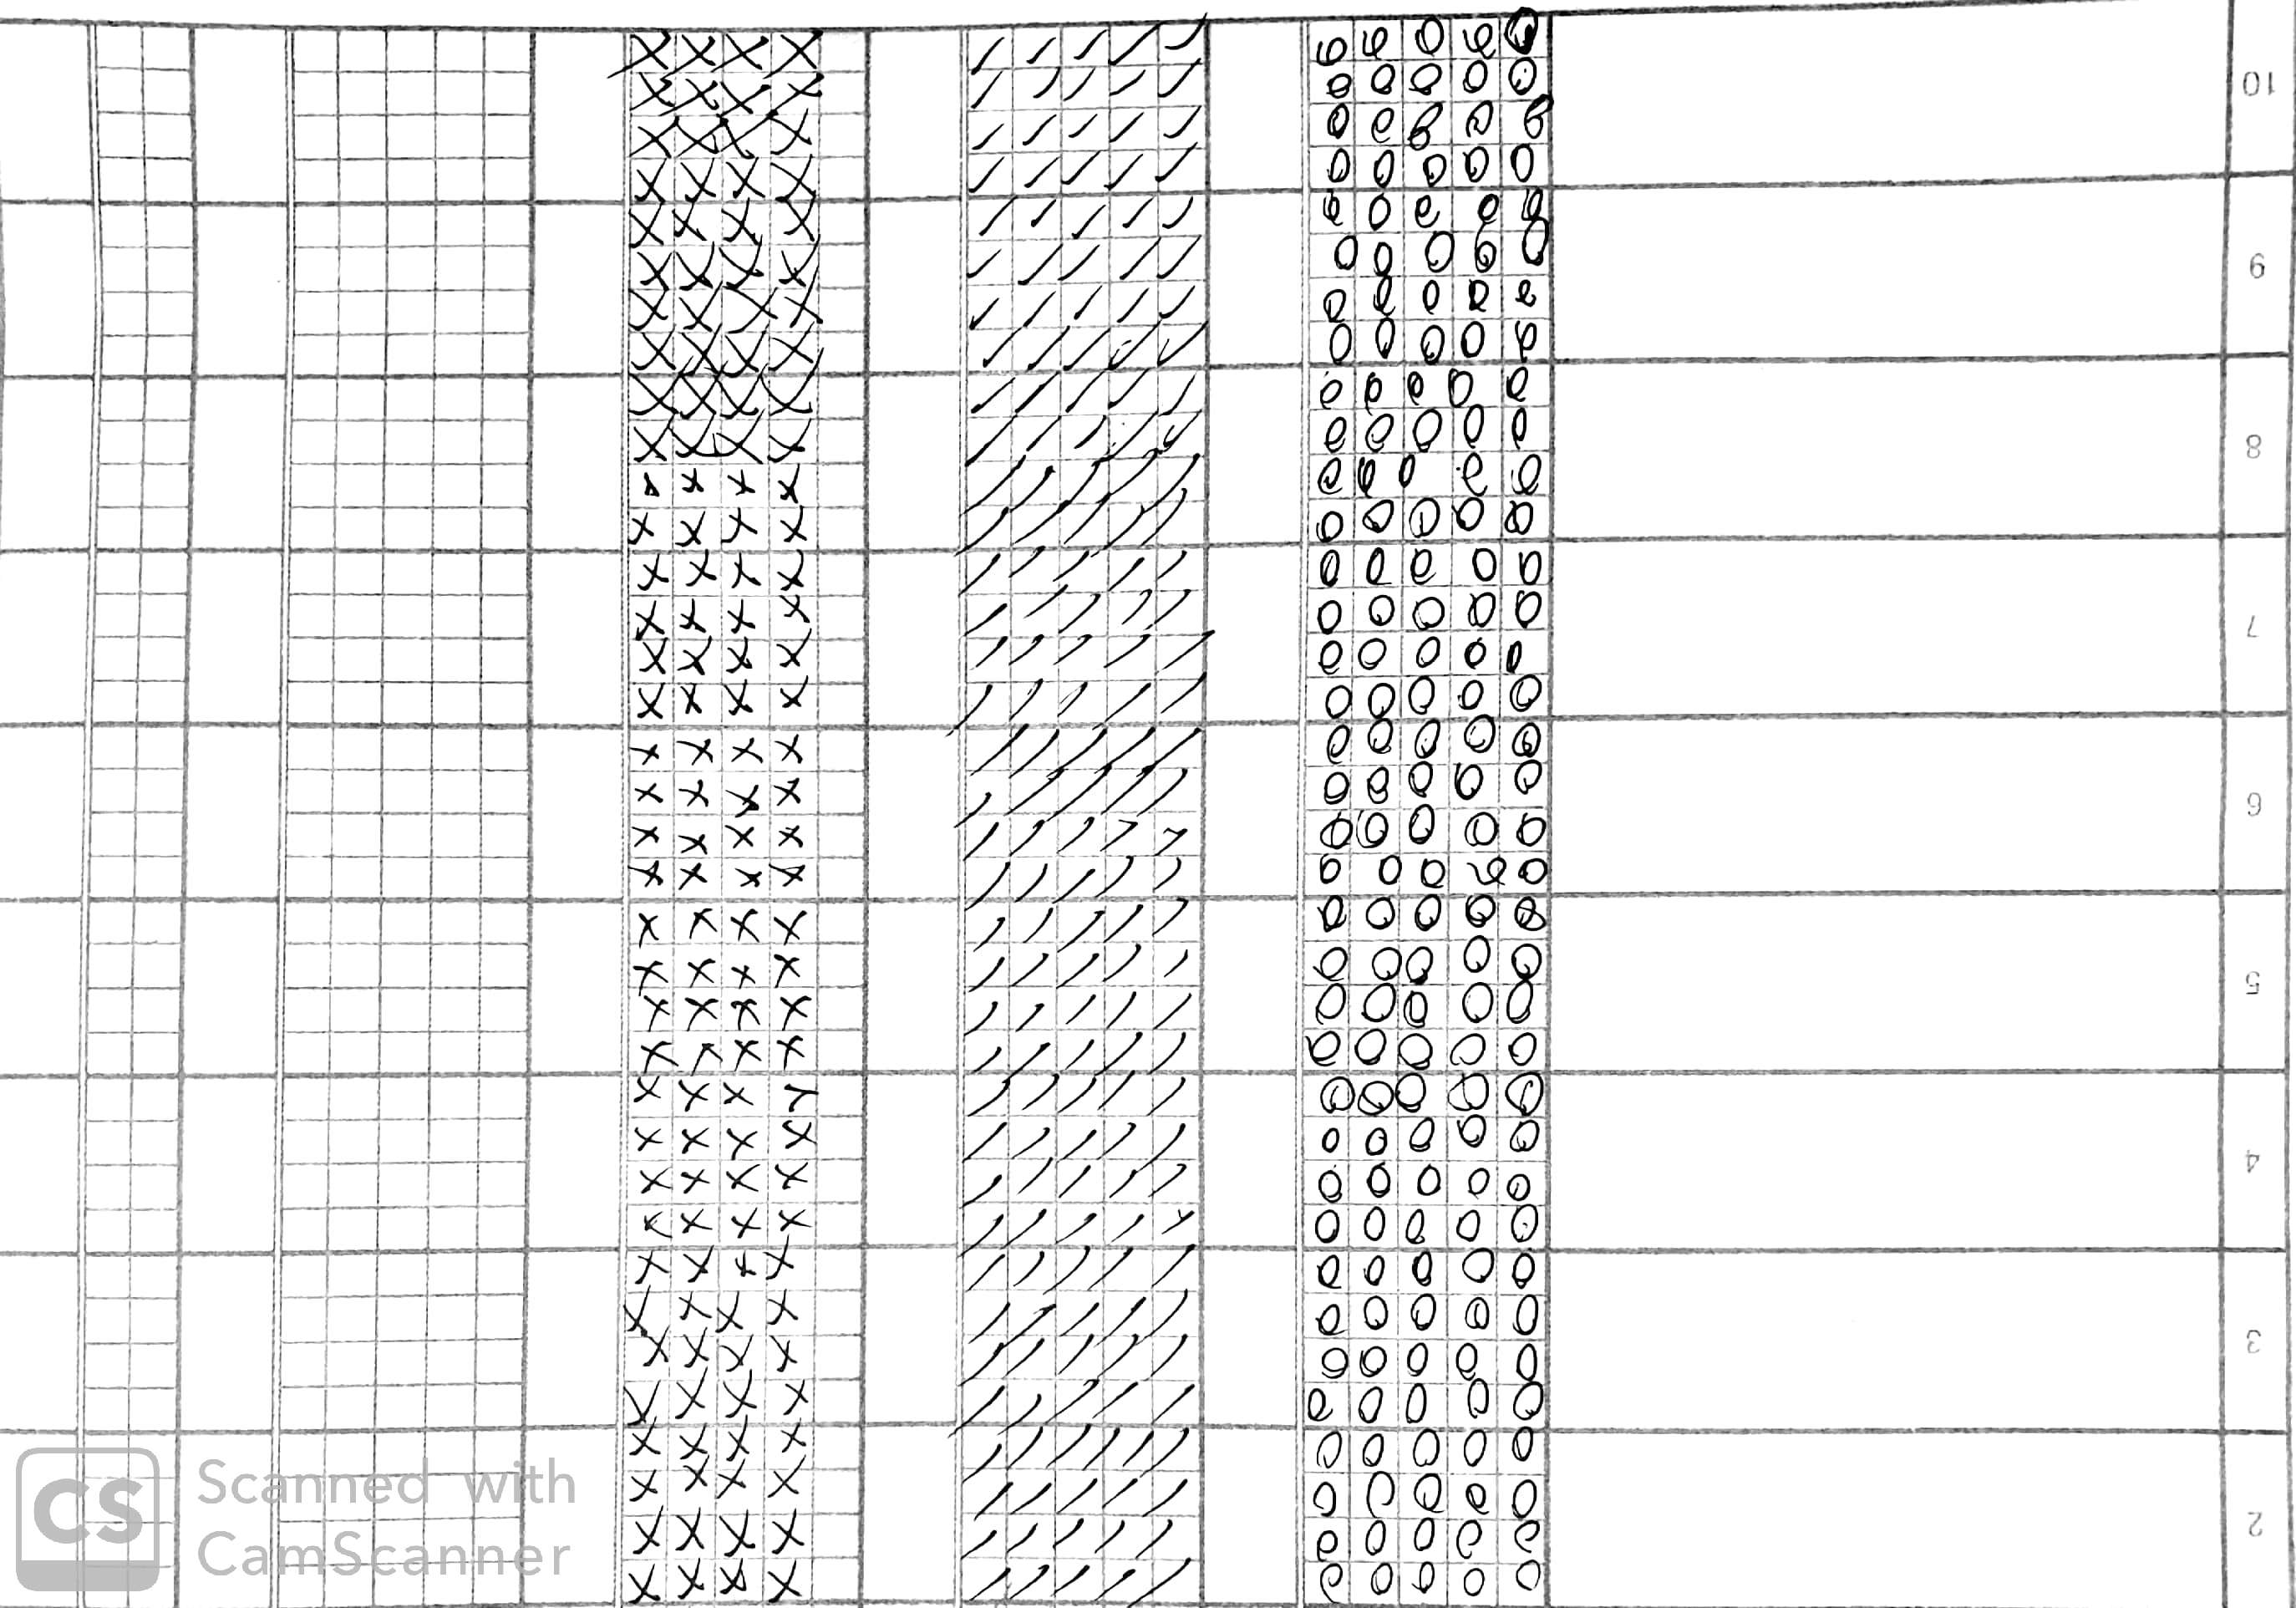/: (953, 105, 1008, 155), (1092, 320, 1148, 370), (954, 419, 1010, 470), (1008, 21, 1063, 72), (1057, 19, 1111, 70), (1157, 21, 1211, 72), (1000, 103, 1054, 154), (1145, 98, 1199, 148), (1104, 141, 1158, 192), (1057, 141, 1111, 192), (1008, 196, 1063, 246), (1045, 236, 1099, 286), (1153, 320, 1207, 370), (1005, 419, 1059, 470), (1000, 457, 1054, 508), (1151, 56, 1207, 105), (954, 63, 1010, 112), (1108, 98, 1164, 147), (1151, 234, 1207, 283), (954, 246, 1010, 295), (953, 292, 1008, 340), (991, 330, 1047, 379), (1151, 370, 1207, 419), (954, 471, 1010, 520), (1090, 456, 1146, 505), (1151, 454, 1207, 503), (1052, 503, 1108, 552), (958, 24, 1012, 73), (1099, 17, 1153, 66), (1103, 56, 1157, 105), (1054, 63, 1108, 112), (1015, 59, 1069, 108), (1050, 98, 1104, 147), (1145, 147, 1199, 196), (1005, 147, 1059, 196), (965, 147, 1019, 196), (958, 189, 1012, 237), (1057, 194, 1111, 243), (1111, 189, 1165, 237), (1153, 187, 1207, 236), (1103, 239, 1157, 288), (1012, 246, 1066, 295), (1008, 286, 1063, 335), (1043, 285, 1097, 333), (1104, 278, 1158, 326), (1157, 278, 1211, 326), (1038, 326, 1092, 375), (958, 333, 1012, 382), (958, 377, 1012, 426), (1005, 372, 1059, 421), (1050, 370, 1104, 419), (1099, 365, 1153, 414), (1148, 409, 1202, 457), (1106, 417, 1160, 466), (1054, 417, 1108, 466), (1054, 456, 1108, 505), (1148, 503, 1202, 552), (1097, 501, 1151, 550), (1008, 506, 1063, 555), (949, 503, 1003, 552), (1099, 629, 1143, 677), (1054, 674, 1097, 723), (1003, 814, 1047, 862), (1103, 812, 1146, 861), (1097, 986, 1141, 1035), (1012, 1201, 1056, 1250), (1010, 1294, 1054, 1343), (1092, 1378, 1136, 1426), (1049, 1381, 1092, 1430), (1005, 1383, 1049, 1432), (1111, 1470, 1155, 1519), (1017, 1472, 1061, 1521), (1101, 1557, 1145, 1606), (1015, 1557, 1059, 1606), (1014, 546, 1057, 594), (1054, 539, 1097, 587), (1113, 587, 1157, 634), (960, 587, 1003, 634), (953, 632, 996, 679), (961, 725, 1005, 772), (1158, 723, 1202, 770), (1103, 766, 1146, 814), (1010, 763, 1054, 810), (1099, 852, 1143, 899), (1014, 854, 1057, 901), (1010, 896, 1054, 943), (1099, 896, 1143, 943), (1012, 941, 1056, 988), (1012, 993, 1056, 1041), (1012, 1039, 1056, 1086), (1012, 1079, 1056, 1126), (1104, 1072, 1148, 1119), (1101, 1117, 1145, 1165), (1012, 1156, 1056, 1203), (1110, 1158, 1153, 1205), (1012, 1248, 1056, 1295), (1096, 1245, 1139, 1292), (998, 1336, 1042, 1383), (1108, 1341, 1151, 1388), (1012, 1428, 1056, 1475), (1118, 1421, 1162, 1468), (1085, 1428, 1129, 1475), (1010, 1514, 1054, 1561), (1049, 1517, 1092, 1564), (1008, 629, 1050, 677), (1050, 629, 1092, 677), (1167, 634, 1209, 683), (1165, 672, 1207, 721), (1061, 812, 1103, 861), (1148, 812, 1190, 861), (1063, 903, 1104, 952), (965, 988, 1007, 1037), (1057, 986, 1099, 1035), (1143, 983, 1185, 1032), (1090, 1020, 1132, 1069), (1153, 1117, 1195, 1166), (1061, 1119, 1103, 1168), (967, 1165, 1008, 1213), (1160, 1199, 1202, 1248), (1108, 1199, 1150, 1248), (1056, 1196, 1097, 1245), (963, 1203, 1005, 1252), (1108, 1297, 1150, 1346), (1056, 1297, 1097, 1346), (970, 1295, 1012, 1344), (1153, 1383, 1195, 1432), (954, 1378, 996, 1426), (1066, 1474, 1108, 1522), (1057, 1554, 1099, 1603), (979, 1557, 1021, 1606), (965, 541, 1007, 588), (1111, 546, 1153, 594), (1150, 545, 1192, 592), (1157, 587, 1199, 634), (1064, 587, 1106, 634), (1012, 585, 1054, 632), (1106, 677, 1148, 725), (1008, 677, 1050, 725), (958, 683, 1000, 730), (1019, 721, 1061, 768), (1066, 718, 1108, 765), (1106, 721, 1148, 768), (1150, 761, 1192, 808), (1052, 761, 1094, 808), (956, 768, 998, 815), (967, 821, 1008, 868), (1153, 856, 1195, 903), (1066, 859, 1108, 906), (975, 861, 1017, 908), (979, 901, 1021, 948), (1151, 897, 1193, 945), (1150, 946, 1192, 993), (1090, 932, 1132, 979), (1056, 939, 1097, 986), (965, 943, 1007, 990), (1153, 1014, 1195, 1062), (968, 1035, 1010, 1082), (963, 1074, 1005, 1121), (1061, 1077, 1103, 1124), (1146, 1072, 1188, 1119), (1007, 1117, 1049, 1165), (960, 1117, 1001, 1165), (1063, 1159, 1104, 1206), (1153, 1158, 1195, 1205), (968, 1250, 1010, 1297), (1054, 1241, 1096, 1288), (1151, 1240, 1193, 1287), (1151, 1290, 1193, 1337), (967, 1343, 1008, 1390), (1057, 1336, 1099, 1383), (1155, 1339, 1197, 1386), (968, 1430, 1010, 1477), (1056, 1425, 1097, 1472), (1155, 1426, 1197, 1474), (1155, 1467, 1197, 1514), (967, 1468, 1008, 1515), (965, 1521, 1007, 1568), (1089, 1514, 1131, 1561), (1138, 1515, 1179, 1563), (1148, 1552, 1190, 1599), (970, 1561, 1012, 1608)
o: (1492, 1117, 1539, 1158), (1403, 450, 1448, 491), (1448, 1117, 1493, 1158), (1359, 1294, 1404, 1334), (1357, 21, 1404, 59), (1506, 59, 1553, 98), (1404, 59, 1452, 98), (1312, 103, 1359, 141), (1404, 105, 1452, 143), (1507, 101, 1555, 140), (1506, 138, 1553, 176), (1457, 143, 1504, 182), (1408, 152, 1455, 190), (1357, 145, 1404, 183), (1314, 150, 1361, 189), (1410, 236, 1457, 274), (1309, 288, 1356, 326), (1408, 276, 1455, 314), (1457, 285, 1504, 323), (1504, 279, 1551, 318), (1504, 316, 1551, 354), (1314, 370, 1361, 409), (1488, 363, 1535, 402), (1312, 419, 1359, 457), (1312, 456, 1359, 494), (1455, 454, 1502, 492), (1309, 510, 1356, 548), (1310, 548, 1357, 587), (1357, 543, 1404, 581), (1506, 546, 1553, 585), (1406, 595, 1453, 634), (1404, 641, 1452, 679), (1455, 629, 1502, 667), (1486, 629, 1534, 667), (1504, 665, 1551, 704), (1309, 683, 1356, 721), (1397, 719, 1445, 758), (1455, 716, 1502, 754), (1404, 810, 1452, 849), (1457, 812, 1504, 850), (1507, 810, 1555, 849), (1504, 854, 1551, 892), (1455, 854, 1502, 892), (1410, 856, 1457, 894), (1307, 859, 1354, 897), (1504, 896, 1551, 934), (1504, 936, 1551, 974), (1504, 985, 1551, 1023), (1391, 1034, 1438, 1072), (1307, 1081, 1354, 1119), (1394, 1075, 1441, 1114), (1495, 1072, 1542, 1110), (1391, 1119, 1438, 1158), (1293, 1119, 1340, 1158), (1406, 1163, 1453, 1201), (1495, 1166, 1542, 1205), (1495, 1208, 1542, 1247), (1394, 1206, 1441, 1245), (1457, 1295, 1504, 1334), (1397, 1294, 1445, 1332), (1312, 1297, 1359, 1336), (1396, 1343, 1443, 1381), (1504, 1339, 1551, 1378), (1391, 1379, 1438, 1418), (1295, 1395, 1342, 1433), (1298, 1432, 1345, 1470), (1408, 1435, 1455, 1474), (1455, 1477, 1502, 1515), (1406, 1514, 1453, 1552), (1507, 1557, 1555, 1596), (1397, 1556, 1445, 1594), (1357, 1561, 1404, 1599), (1289, 1563, 1336, 1601), (1309, 26, 1354, 65), (1403, 21, 1448, 59), (1452, 17, 1497, 56), (1502, 12, 1548, 51), (1453, 58, 1499, 96), (1364, 59, 1410, 98), (1319, 68, 1364, 107), (1359, 103, 1404, 141), (1460, 107, 1506, 145), (1319, 197, 1364, 236), (1354, 192, 1399, 230), (1401, 196, 1446, 234), (1460, 189, 1506, 227), (1504, 187, 1549, 225), (1511, 236, 1556, 274), (1464, 236, 1509, 274), (1364, 236, 1410, 274), (1317, 241, 1363, 279), (1361, 286, 1406, 325), (1448, 314, 1493, 353), (1417, 320, 1462, 358), (1364, 321, 1410, 360), (1319, 325, 1364, 363), (1347, 368, 1392, 407), (1401, 361, 1446, 400), (1439, 365, 1485, 403), (1500, 410, 1546, 449), (1460, 407, 1506, 445), (1404, 410, 1450, 449), (1350, 410, 1396, 449), (1350, 466, 1396, 505), (1504, 450, 1549, 489), (1499, 496, 1544, 534), (1438, 491, 1483, 529), (1404, 498, 1450, 536), (1359, 499, 1404, 538), (1401, 555, 1446, 594), (1462, 546, 1507, 585), (1511, 587, 1556, 625), (1464, 588, 1509, 627), (1361, 592, 1406, 630), (1300, 595, 1345, 634), (1305, 637, 1350, 676), (1350, 630, 1396, 669), (1445, 670, 1490, 709), (1404, 677, 1450, 716), (1356, 679, 1401, 718), (1307, 725, 1352, 763), (1363, 723, 1408, 761), (1499, 721, 1544, 759), (1499, 759, 1544, 798), (1432, 761, 1478, 800), (1404, 765, 1450, 803), (1363, 765, 1408, 803), (1322, 766, 1368, 805), (1307, 822, 1352, 861), (1350, 808, 1396, 847), (1363, 852, 1408, 890), (1303, 903, 1349, 941), (1363, 896, 1408, 934), (1404, 892, 1450, 931), (1450, 894, 1495, 932), (1443, 936, 1488, 974), (1384, 945, 1429, 983), (1354, 946, 1399, 985), (1305, 950, 1350, 988), (1303, 978, 1349, 1016), (1366, 986, 1411, 1025), (1401, 986, 1446, 1025), (1452, 986, 1497, 1025), (1500, 1034, 1546, 1072), (1452, 1030, 1497, 1069), (1347, 1028, 1392, 1067), (1319, 1028, 1364, 1067), (1349, 1074, 1394, 1112), (1450, 1074, 1495, 1112), (1352, 1123, 1397, 1161), (1300, 1166, 1345, 1205), (1349, 1163, 1394, 1201), (1448, 1163, 1493, 1201), (1445, 1199, 1490, 1238), (1356, 1206, 1401, 1245), (1300, 1212, 1345, 1250), (1307, 1252, 1352, 1290), (1356, 1254, 1401, 1292), (1401, 1252, 1446, 1290), (1446, 1252, 1492, 1290), (1499, 1252, 1544, 1290), (1502, 1292, 1548, 1330), (1303, 1343, 1349, 1381), (1354, 1344, 1399, 1383), (1462, 1344, 1507, 1383), (1513, 1388, 1558, 1426), (1452, 1383, 1497, 1421), (1349, 1388, 1394, 1426), (1354, 1432, 1399, 1470), (1443, 1433, 1488, 1472), (1500, 1432, 1546, 1470), (1500, 1472, 1546, 1510), (1403, 1474, 1448, 1512), (1359, 1472, 1404, 1510), (1300, 1474, 1345, 1512), (1303, 1528, 1349, 1566), (1347, 1521, 1392, 1559), (1460, 1522, 1506, 1561), (1504, 1519, 1549, 1557), (1439, 1561, 1485, 1599)
x: (623, 26, 666, 70), (680, 30, 724, 73), (722, 30, 766, 73), (775, 31, 818, 75), (780, 66, 823, 110), (677, 72, 721, 115), (722, 119, 766, 162), (768, 113, 811, 157), (775, 155, 818, 199), (735, 157, 778, 201), (691, 162, 735, 206), (644, 157, 687, 201), (628, 210, 672, 253), (661, 203, 705, 246), (766, 201, 810, 244), (771, 243, 815, 286), (715, 243, 759, 286), (682, 250, 726, 293), (639, 248, 682, 292), (635, 288, 679, 332), (729, 288, 773, 332), (775, 288, 818, 332), (721, 325, 764, 368), (673, 332, 717, 375), (635, 381, 679, 424), (682, 379, 726, 423), (761, 374, 804, 417), (761, 417, 804, 461), (707, 417, 750, 461), (666, 423, 710, 466), (630, 423, 673, 466), (757, 454, 801, 498), (766, 501, 810, 545), (722, 503, 766, 546), (628, 553, 672, 597), (668, 587, 712, 630), (619, 599, 663, 643), (628, 637, 672, 681), (675, 637, 719, 681), (707, 639, 750, 683), (759, 639, 803, 683), (764, 674, 808, 718), (675, 679, 719, 723), (626, 677, 670, 721), (666, 726, 710, 770), (721, 732, 764, 775), (776, 740, 820, 784), (771, 779, 815, 822), (729, 777, 773, 821), (666, 770, 710, 814), (630, 770, 673, 814), (619, 808, 663, 852), (666, 817, 710, 861), (715, 815, 759, 859), (764, 817, 808, 861), (766, 854, 810, 897), (666, 856, 710, 899), (616, 850, 659, 894), (677, 904, 721, 948), (722, 904, 766, 948), (766, 904, 810, 948), (764, 939, 808, 983), (719, 941, 762, 985), (677, 957, 721, 1000), (728, 992, 771, 1035), (766, 992, 810, 1035), (771, 1027, 815, 1070), (722, 1025, 766, 1069), (693, 1034, 736, 1077), (628, 1069, 672, 1112), (684, 1069, 728, 1112), (714, 1070, 757, 1114), (782, 1077, 825, 1121), (776, 1114, 820, 1158), (722, 1114, 766, 1158), (682, 1117, 726, 1161), (635, 1119, 679, 1163), (635, 1163, 679, 1206), (673, 1158, 717, 1201), (719, 1163, 762, 1206), (768, 1161, 811, 1205), (726, 1194, 769, 1238), (684, 1201, 728, 1245), (637, 1203, 680, 1247), (628, 1247, 672, 1290), (689, 1247, 733, 1290), (719, 1245, 762, 1288), (754, 1241, 797, 1285), (752, 1294, 796, 1337), (626, 1332, 670, 1376), (675, 1332, 719, 1376), (719, 1334, 762, 1378), (768, 1371, 811, 1414), (714, 1378, 757, 1421), (621, 1378, 665, 1421), (616, 1426, 659, 1470), (714, 1419, 757, 1463), (759, 1418, 803, 1461), (761, 1458, 804, 1501), (707, 1461, 750, 1505), (666, 1458, 710, 1501), (612, 1465, 656, 1508), (661, 1512, 705, 1556), (719, 1508, 762, 1552), (768, 1510, 811, 1554), (759, 1550, 803, 1594), (658, 1557, 701, 1601), (733, 70, 775, 113), (633, 70, 675, 113), (630, 115, 673, 157), (675, 115, 719, 157), (712, 203, 754, 246), (673, 292, 717, 333), (771, 330, 815, 372), (626, 330, 670, 372), (712, 374, 754, 417), (623, 468, 666, 510), (672, 457, 714, 501), (710, 461, 752, 505), (680, 508, 724, 550), (639, 508, 682, 550), (672, 548, 714, 592), (712, 548, 754, 592), (759, 546, 803, 588), (715, 585, 759, 627), (712, 674, 754, 718), (630, 723, 673, 765), (712, 856, 754, 899), (621, 899, 665, 941), (619, 960, 663, 1002), (633, 992, 675, 1035), (672, 995, 714, 1039), (633, 1032, 675, 1075), (771, 1192, 813, 1236), (715, 1292, 759, 1334), (675, 1292, 719, 1334), (626, 1292, 670, 1334), (766, 1330, 810, 1372), (672, 1374, 714, 1418), (672, 1423, 714, 1467), (612, 1507, 656, 1549), (710, 1561, 752, 1605), (633, 1557, 675, 1601), (633, 1556, 675, 1599), (771, 585, 813, 627)
